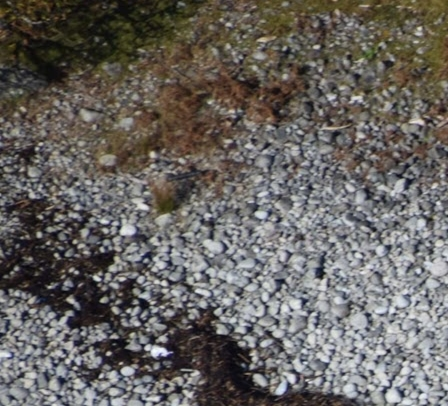straight_bar: (162, 160, 209, 187)
